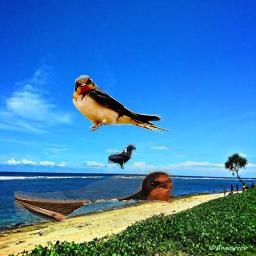Crow: (108, 144, 136, 169)
Swallow: (14, 170, 174, 228), (71, 75, 173, 137)
